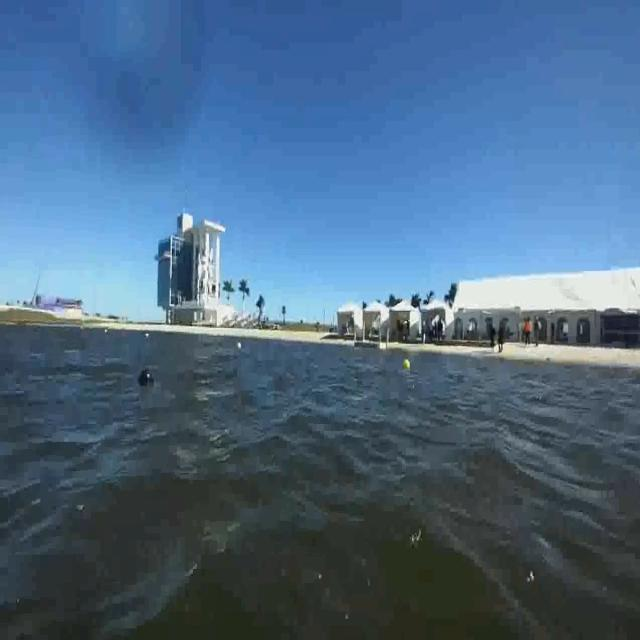black-buoy: (138, 365, 154, 386)
yellow-buoy: (404, 358, 412, 370)
